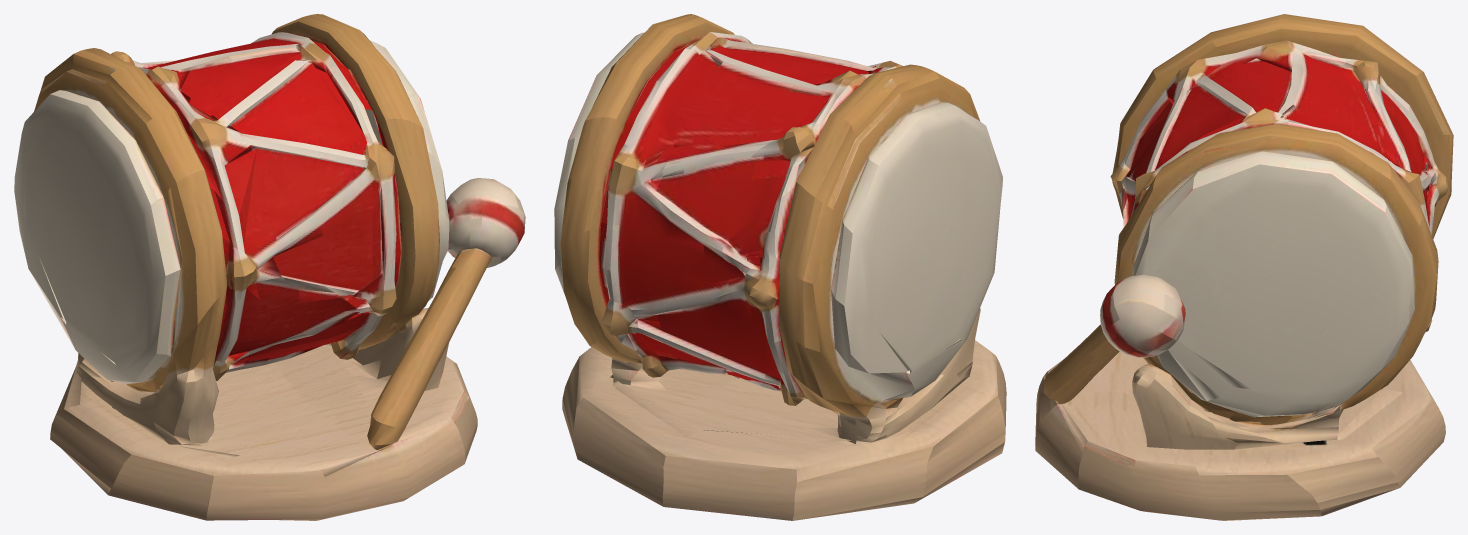
File: davul.glb
The picture shows the model from 3 angles, left to right: view 1: azimuth 30°, elevation 25°; view 2: azimuth 150°, elevation 25°; view 3: azimuth 270°, elevation 25°; orthographic projection. The views are drawn at different scales.
Parts seen in each view (by area): view 1: Mesh0; view 2: Mesh0; view 3: Mesh0.
Boxes of the visible parts, left/top/right/bottom form: Mesh0: left=14, top=14, right=525, bottom=520; Mesh0: left=554, top=14, right=1006, bottom=520; Mesh0: left=1035, top=14, right=1453, bottom=520.
Bounding box in the file's own units: 1.86 × 1.77 × 1.82.
Materials: 1 (1 with a texture image).
